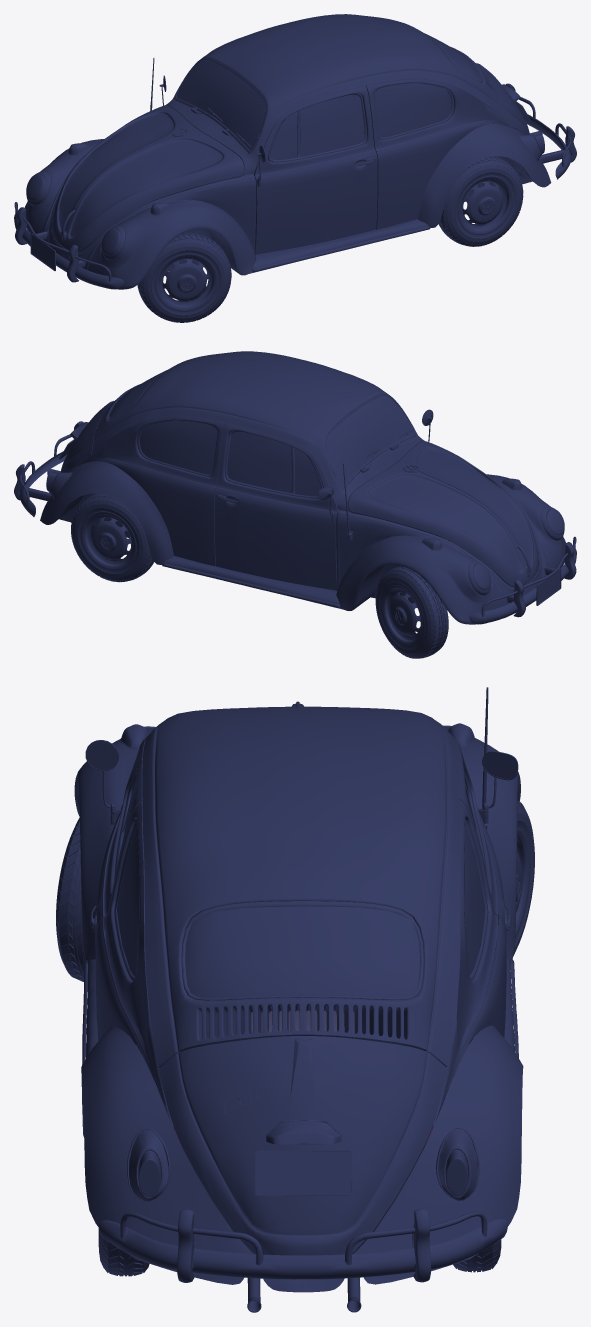
Rendered from Beetle_-_BLEND-transformed.glb.
3 renders of one model, top to bottom at view 1: azimuth 30°, elevation 25°; view 2: azimuth 150°, elevation 25°; view 3: azimuth 270°, elevation 25°, orthographic. The views are drawn at different scales.
Visible parts, largest first — view 1: Back_Fenders, Doors.001, Glass.001; view 2: Back_Fenders, Doors, Glass; view 3: Back_Fenders, Doors.001, Doors, Glass.001, Glass.
Part boxes in pixels (x1=…): Back_Fenders: x1=14, y1=14, x2=576, y2=322; Doors.001: x1=253, y1=86, x2=377, y2=254; Glass.001: x1=256, y1=94, x2=375, y2=186; Back_Fenders: x1=14, y1=351, x2=576, y2=658; Doors: x1=214, y1=423, x2=338, y2=590; Glass: x1=216, y1=431, x2=334, y2=516; Back_Fenders: x1=56, y1=687, x2=534, y2=1312; Doors.001: x1=95, y1=739, x2=145, y2=947; Doors: x1=454, y1=738, x2=506, y2=941; Glass.001: x1=85, y1=740, x2=135, y2=931; Glass: x1=466, y1=751, x2=518, y2=930.
Bounding box in the file's own units: 139 × 51.55 × 55.92.
1 material, 1 textured.
